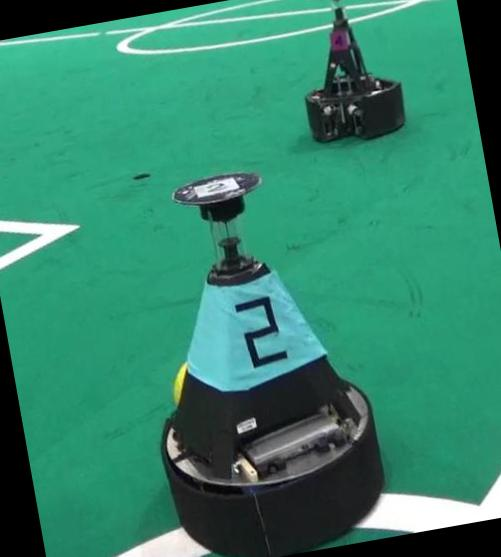robot: (161, 172, 383, 557), (304, 7, 403, 141)
